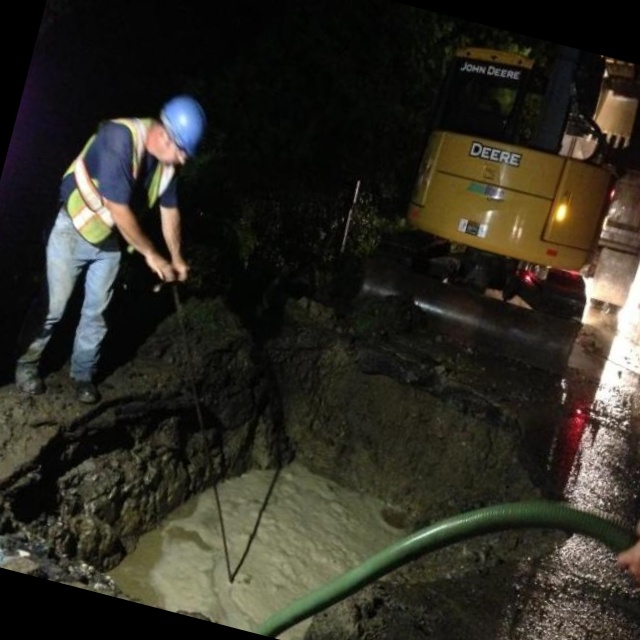Con_Casco: (148, 90, 210, 169)
Con_Chaleco: (51, 101, 155, 245)
